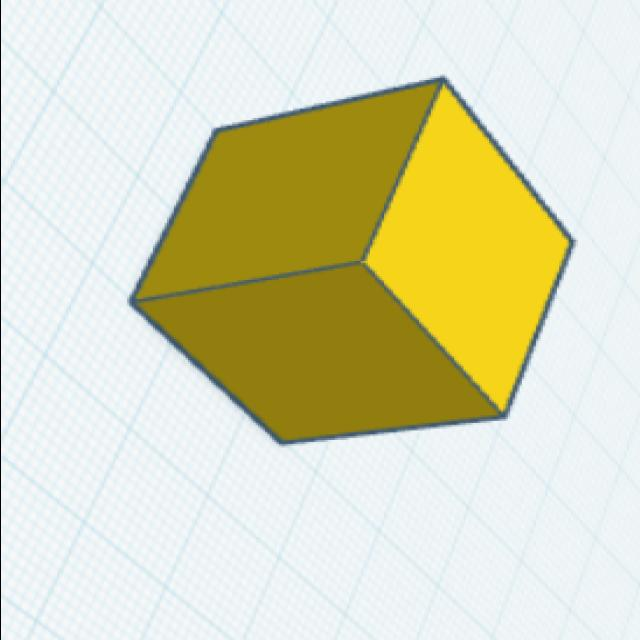cube: (121, 72, 580, 449)
